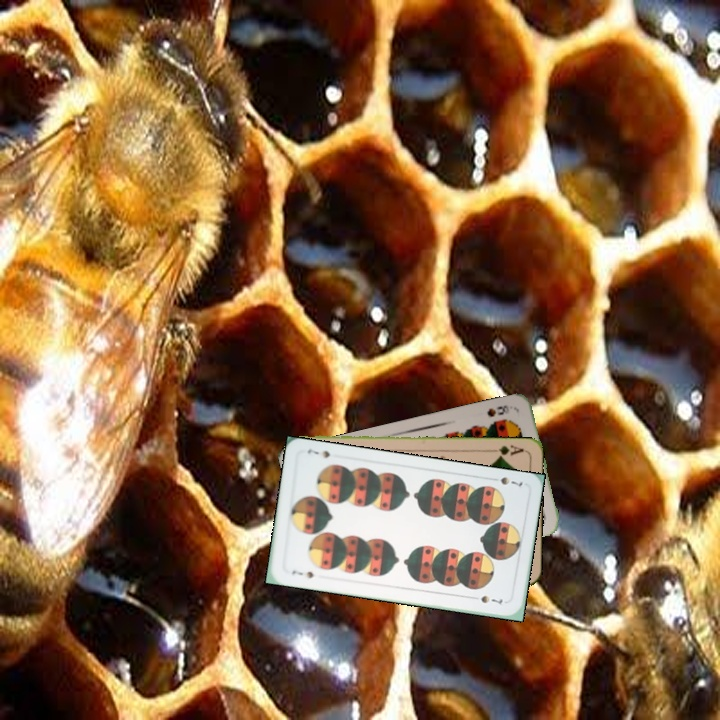GA: (486, 441, 526, 460)
S7: (486, 473, 525, 489), (288, 566, 316, 581)
S8: (483, 401, 510, 420)
